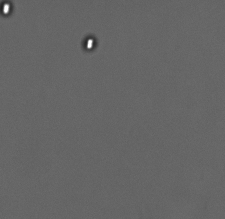Living Cell: (80, 33, 99, 52), (1, 2, 14, 18)
